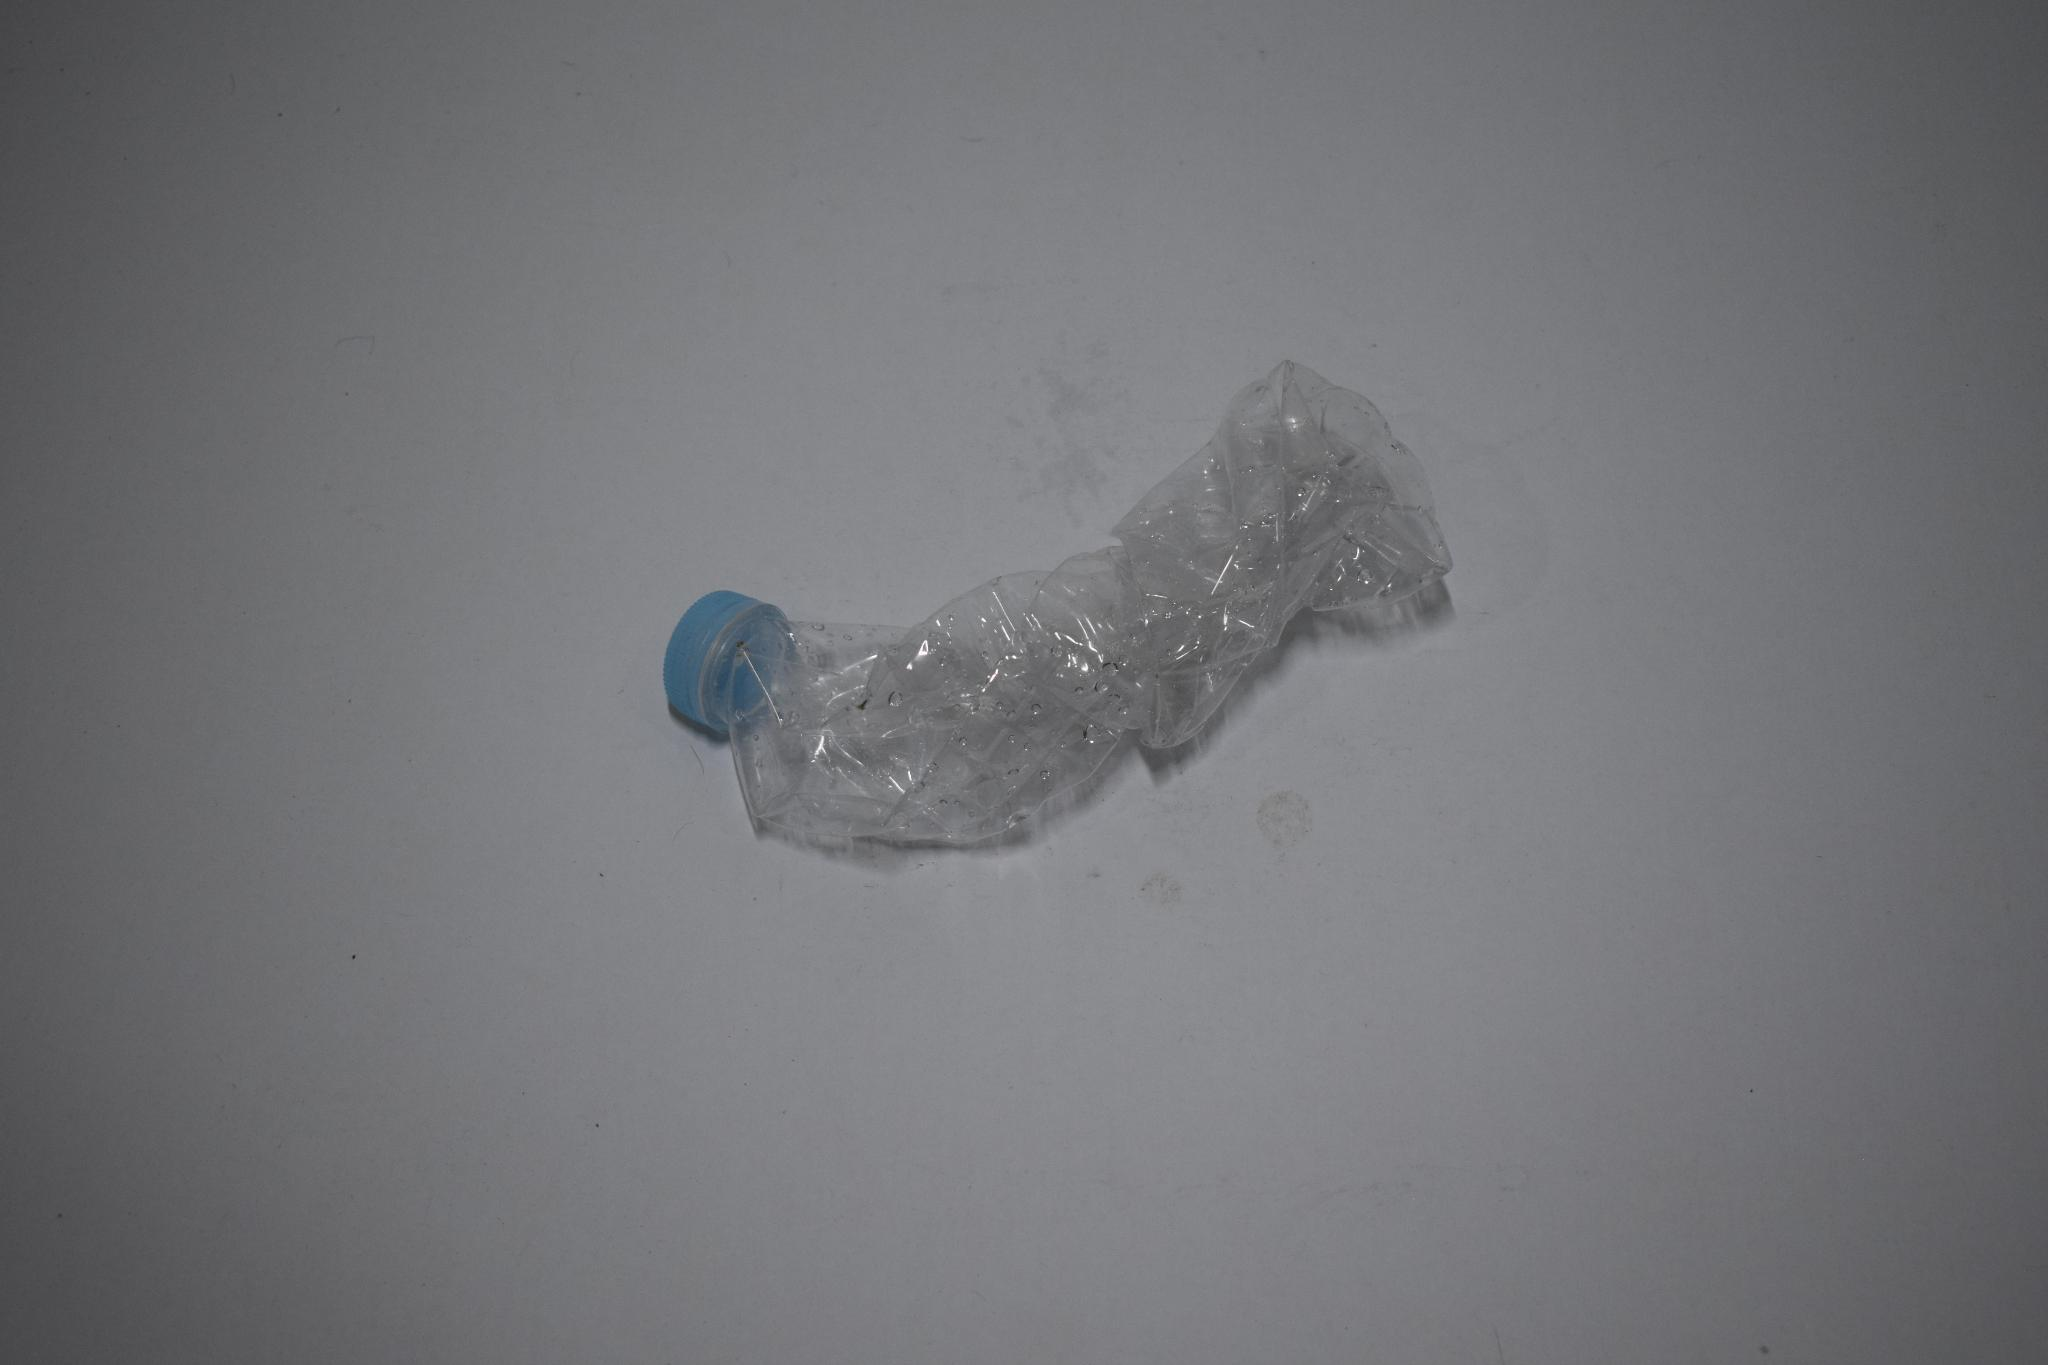bottle: (639, 372, 1469, 877)
